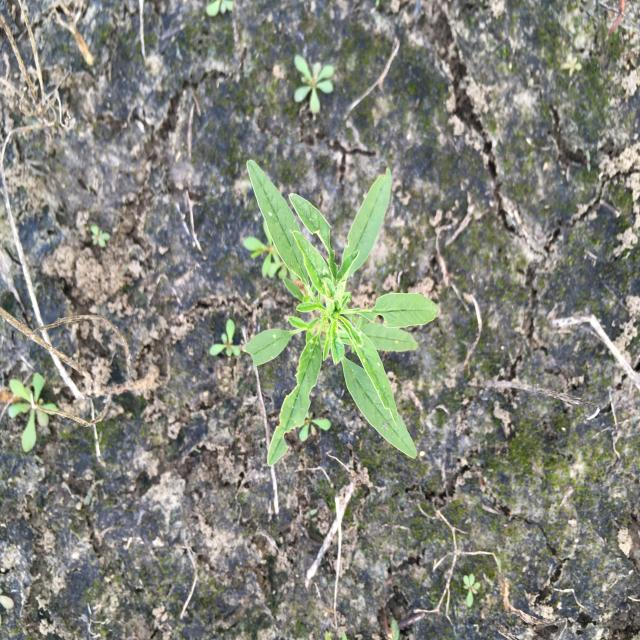Carpetweed: (6, 370, 60, 456), (290, 51, 336, 120), (208, 316, 242, 364)
Waterhemp: (239, 158, 442, 472)
